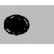correct: (3, 13, 30, 38)
